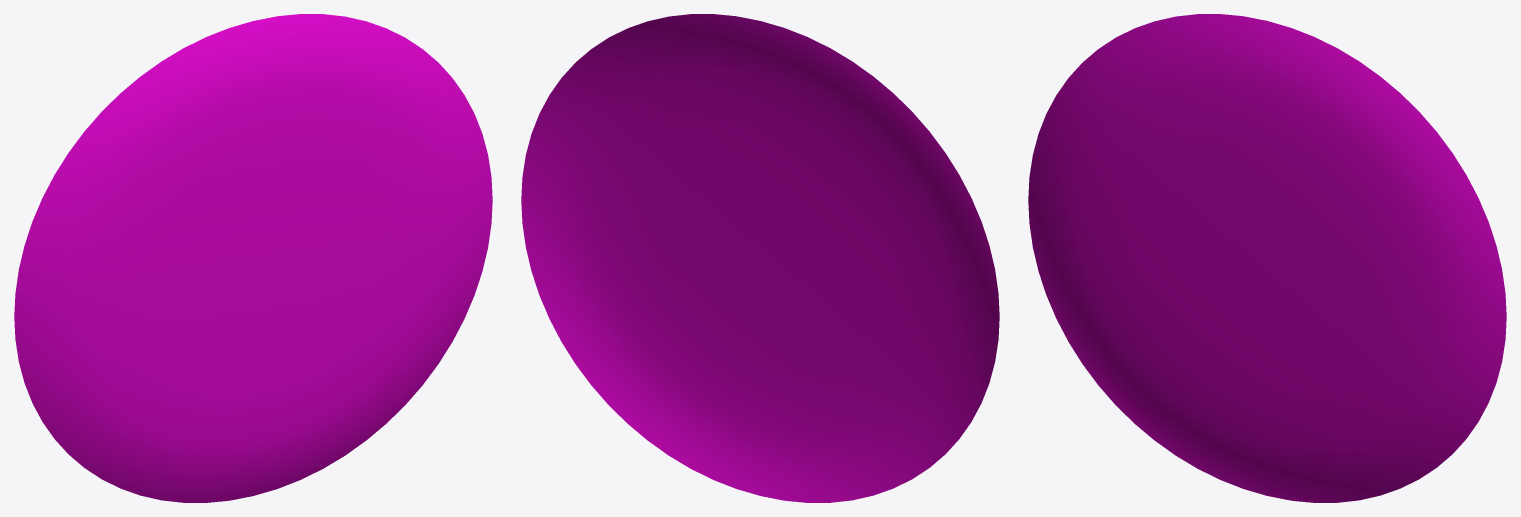
File: Washing.001.fbx
The picture shows the model from 3 angles, left to right: view 1: azimuth 30°, elevation 25°; view 2: azimuth 150°, elevation 25°; view 3: azimuth 330°, elevation 25°; orthographic projection.
Parts seen in each view (by area): view 1: Washing.001; view 2: Washing.001; view 3: Washing.001.
Boxes of the visible parts, x1,y1,x2,y2 form: Washing.001: [14, 14, 492, 502]; Washing.001: [521, 14, 999, 502]; Washing.001: [1028, 14, 1506, 502].
Size of the model in its own units: 217 by 206 by 10.33.
